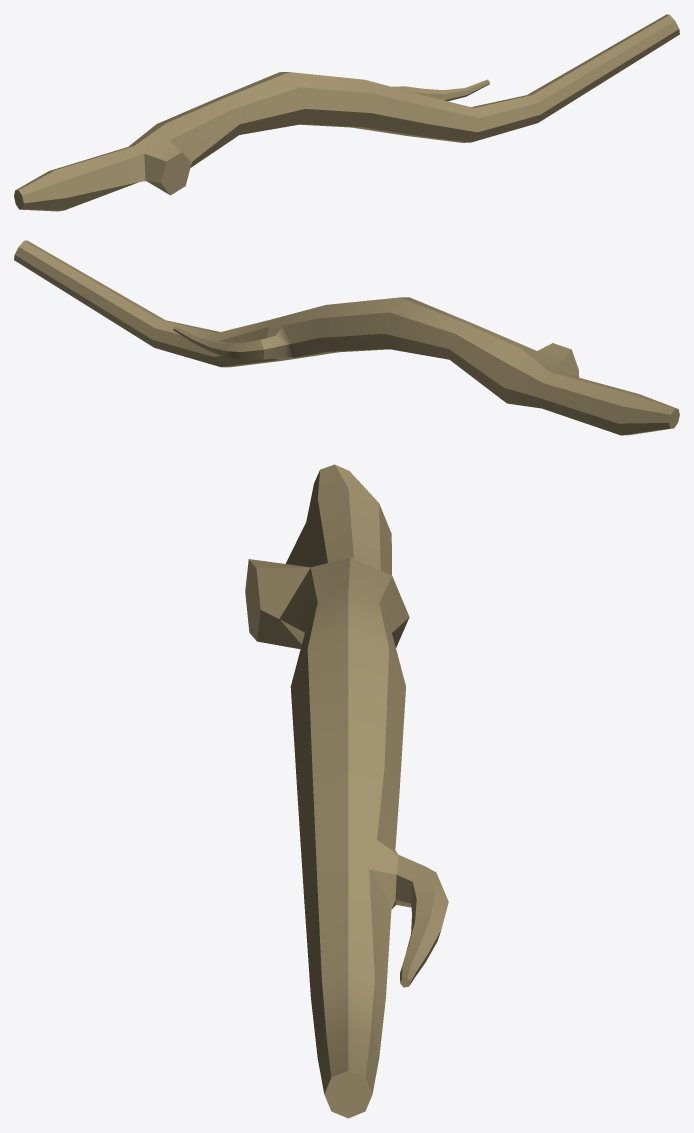
File: Fixed Jumper Wood Platform.fbx
3 views of the same model, one above another, from view 1: azimuth 30°, elevation 25°; view 2: azimuth 150°, elevation 25°; view 3: azimuth 270°, elevation 25° (orthographic). The views are drawn at different scales.
Parts seen in each view (by area): view 1: pCylinder1; view 2: pCylinder1; view 3: pCylinder1.
Boxes of the visible parts, bbox=[...] form: pCylinder1: bbox=[14, 14, 679, 211]; pCylinder1: bbox=[14, 240, 679, 435]; pCylinder1: bbox=[245, 464, 448, 1118].
Size of the model in its own units: 19.42 by 3.17 by 2.62.
